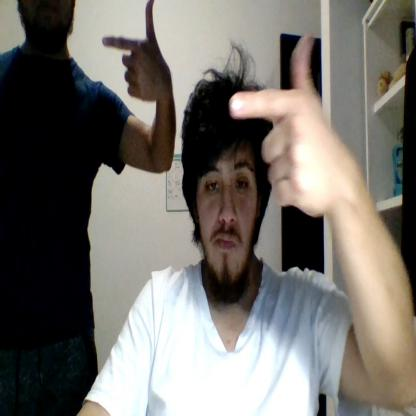G: (230, 34, 328, 217), (102, 0, 163, 102)
